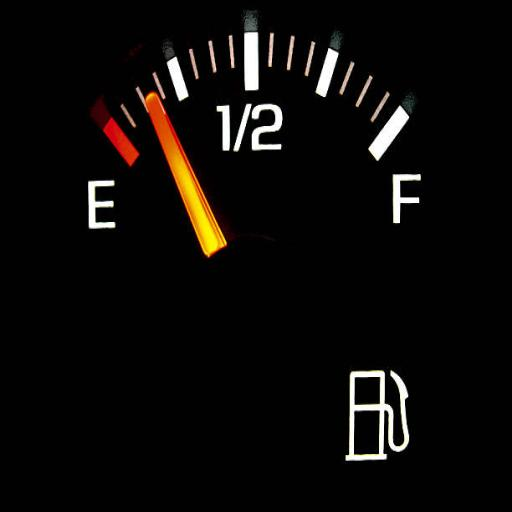empty: (85, 176, 118, 234)
fuel_icon: (344, 364, 412, 468)
full: (386, 169, 422, 230)
needle_center: (193, 229, 297, 366)
needle_tip: (144, 87, 167, 121)
